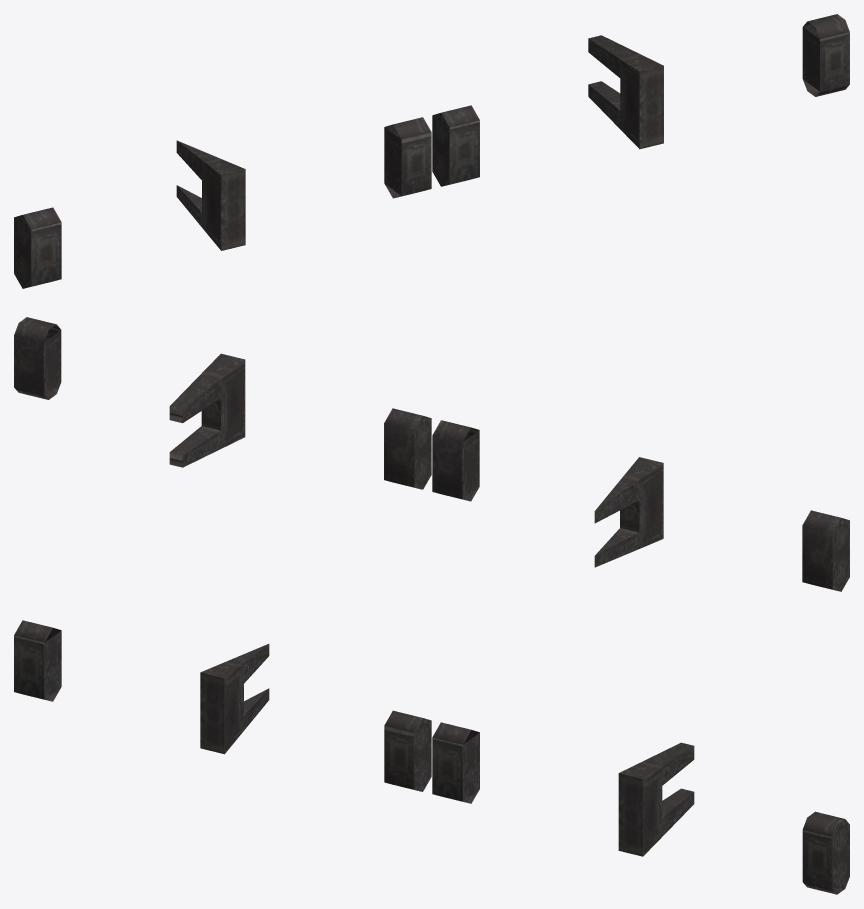
Rendered from segmentR1.glb.
3 renders of one model, top to bottom at view 1: azimuth 30°, elevation 25°; view 2: azimuth 150°, elevation 25°; view 3: azimuth 330°, elevation 25°, orthographic.
Parts seen in each view (by area): view 1: set_0_group_0; view 2: set_0_group_0; view 3: set_0_group_0.
Part boxes in pixels (x1,y1,x2,y2): set_0_group_0: (14, 14, 849, 288); set_0_group_0: (14, 317, 849, 591); set_0_group_0: (14, 620, 849, 894).
Bounding box in the file's own units: 1.18 × 0.107 × 0.1419.
1 material, 1 textured.
